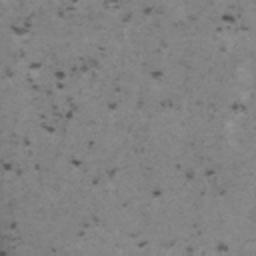Oxide scale of temperature system: (3, 13, 119, 186), (137, 239, 229, 255), (120, 3, 155, 23), (0, 220, 18, 256), (215, 12, 237, 33), (186, 166, 216, 180), (230, 100, 247, 114), (148, 68, 165, 81), (151, 189, 164, 198)
